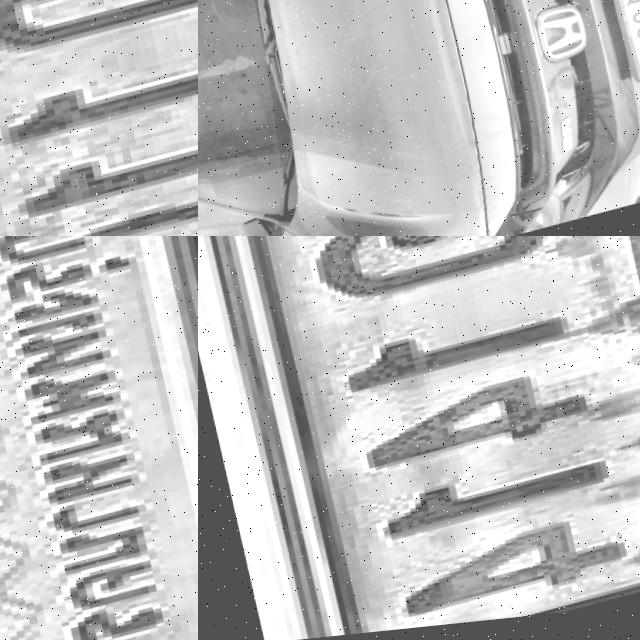license-plate: (198, 236, 640, 640), (0, 236, 198, 640), (0, 0, 198, 236), (600, 0, 640, 101)
